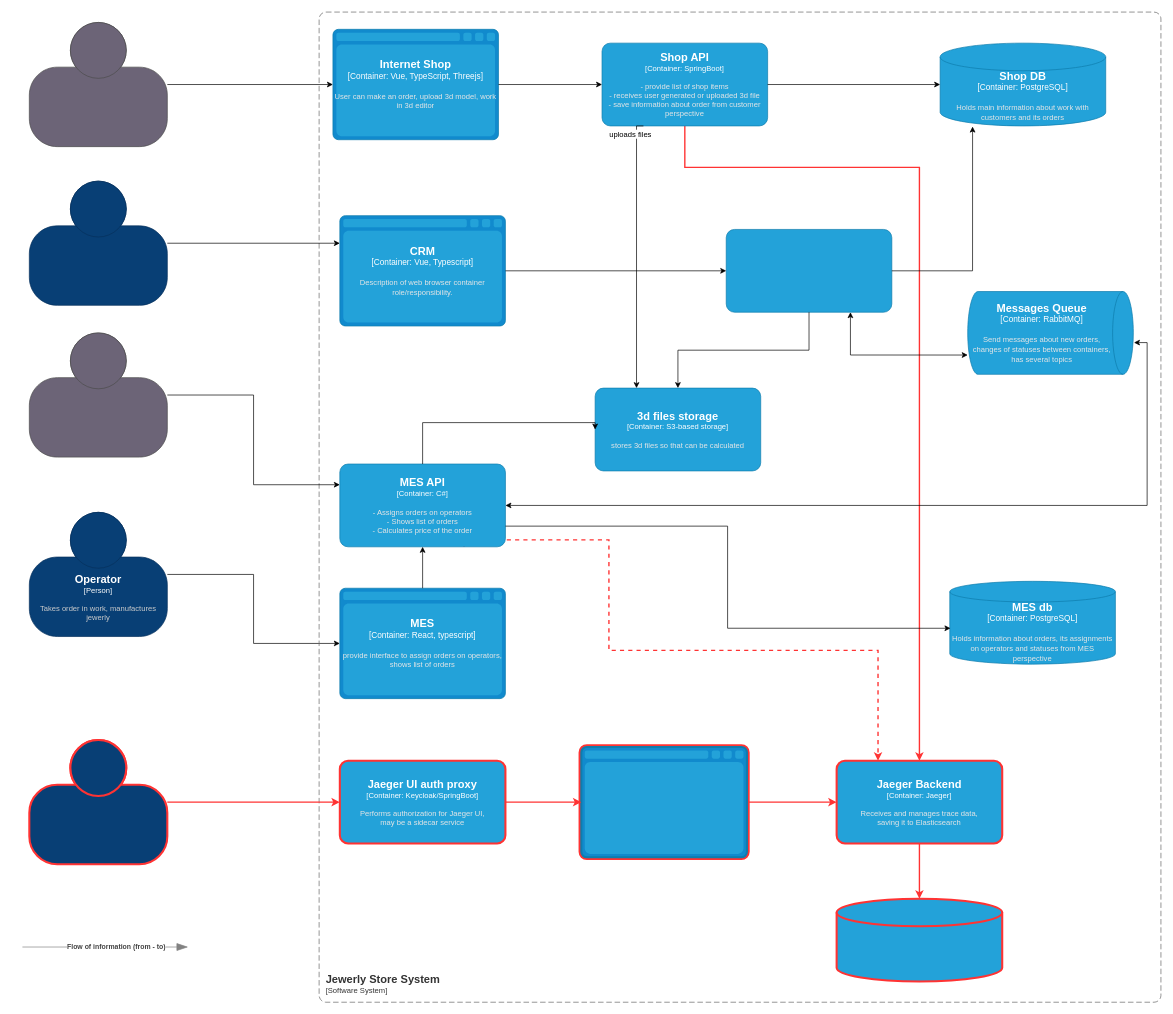
Some shapes in this 1173 by 1014 pixel diagram are drawn without their labels. Each missing label, with the centre of its shape:
"Admin [Person] Uses Jaeger to view traces" belongs at (x=98, y=802).
"API user [Person] Description of external person." belongs at (x=98, y=394).
"CRM API [Container: SpringBoot] Description of container role/responsibility." belongs at (x=809, y=270).
"Customer [Person] Description of external person." belongs at (x=98, y=84).
"Elastic [Container: Elasticsearch] DB for storing traces and logs" belongs at (x=919, y=939).
"Jaeger UI [Container: Jaeger] provides interface to view tracing data" belongs at (x=664, y=802).
"Seller [Person] Operates with order, confirms manufacturing for the user" belongs at (x=98, y=242).
